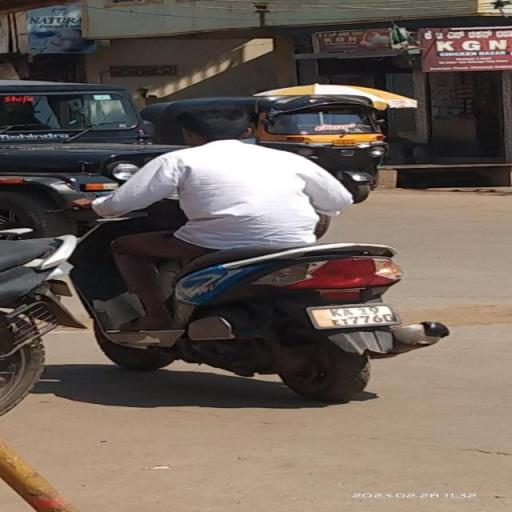bike: (71, 100, 452, 402)
numberplate: (304, 294, 402, 330)
withouthelmet: (183, 105, 253, 141)
